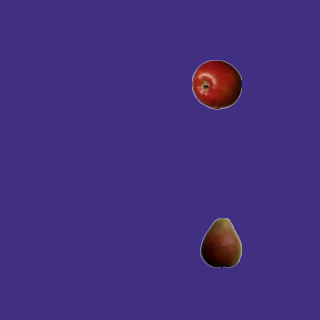Apple Braeburn: (191, 59, 241, 109)
Pear Forelle: (195, 217, 245, 267)
